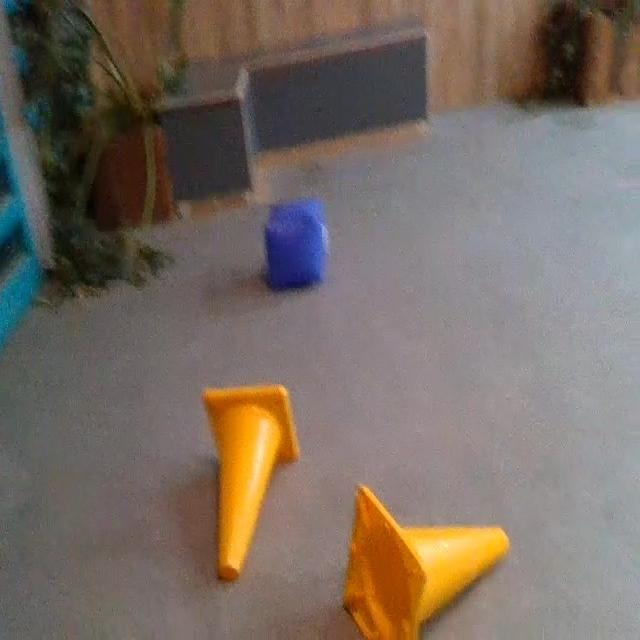cone: (341, 481, 510, 640), (201, 390, 302, 575)
cube: (264, 200, 330, 288)
